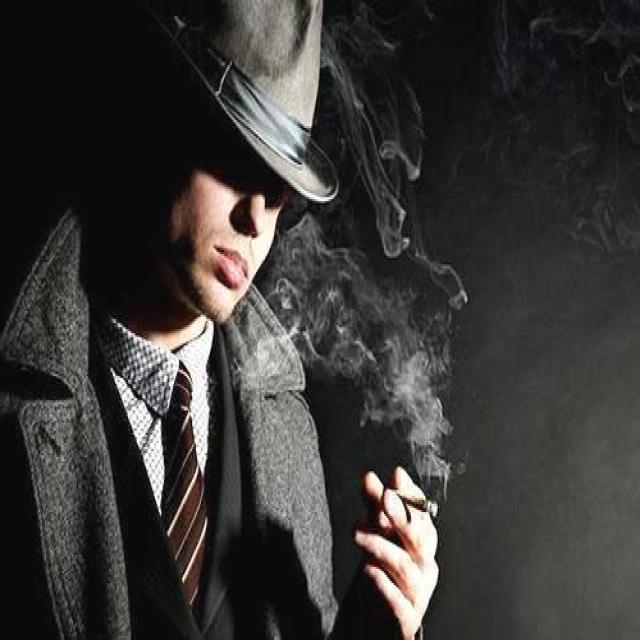cigarette: (353, 467, 452, 520)
